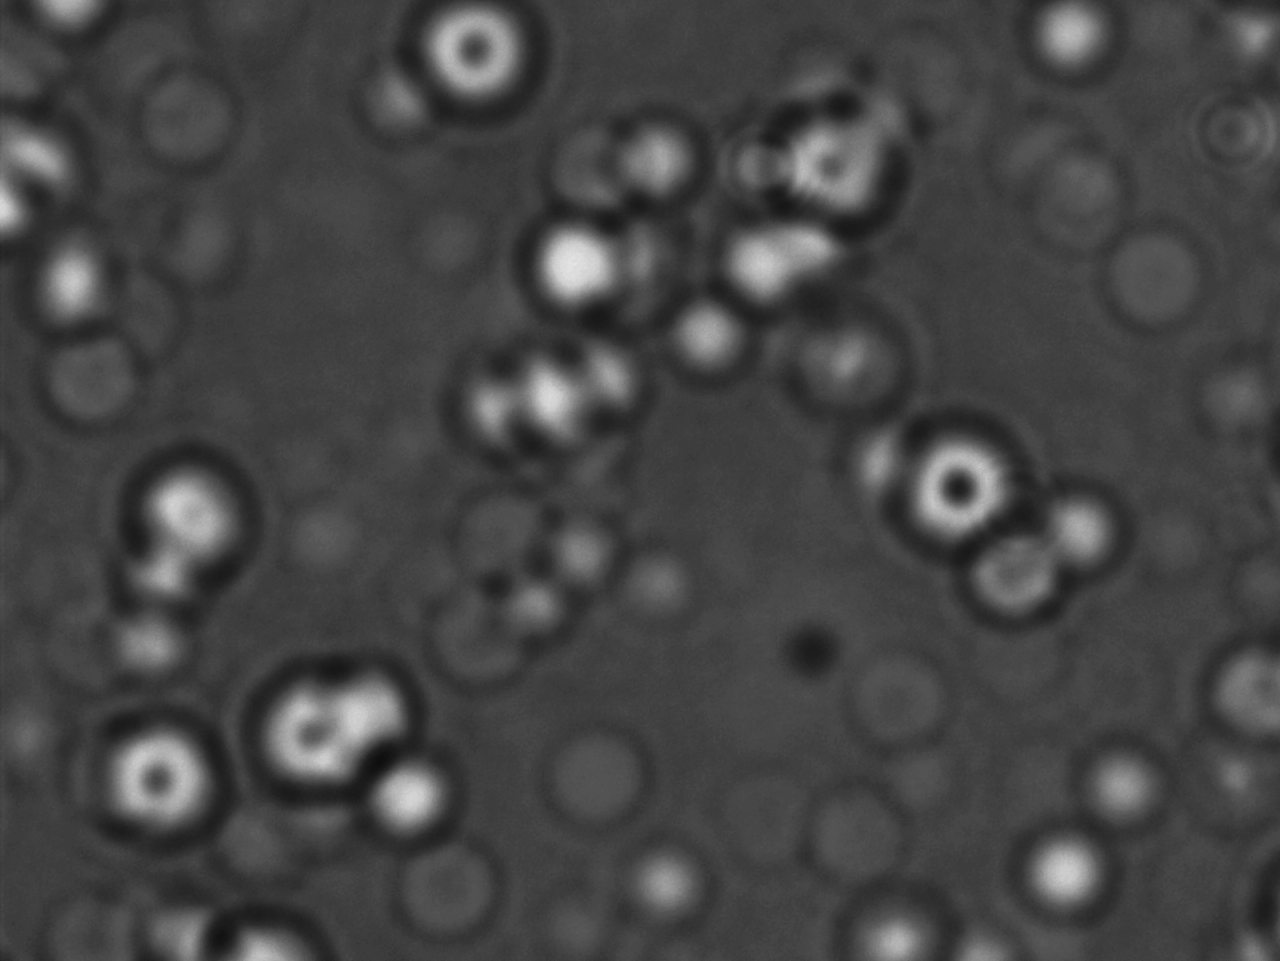depth:32: (892, 400, 1032, 559), (241, 665, 375, 800), (97, 722, 226, 843)
